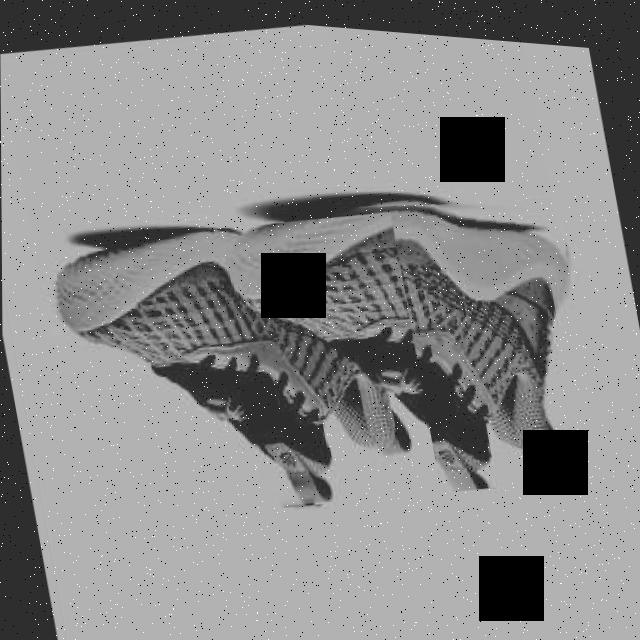shoe: (214, 149, 608, 526), (41, 183, 441, 547)
